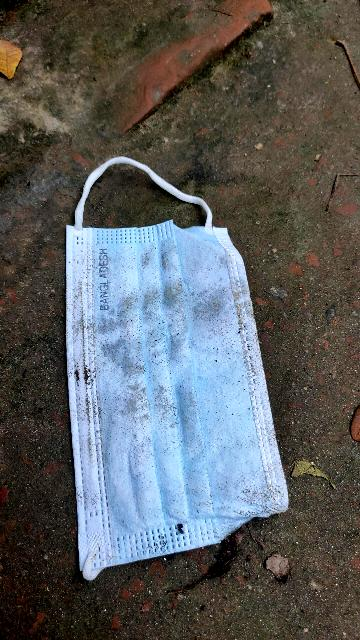mask: (51, 126, 298, 588)
